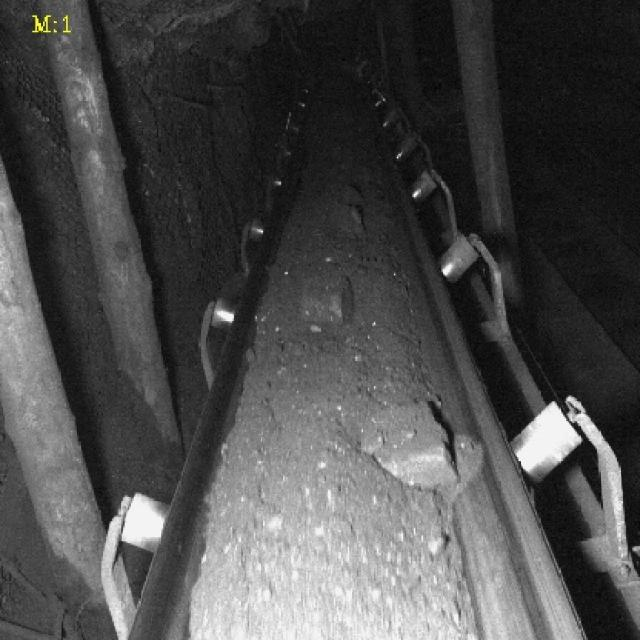large_sized_coal: (360, 397, 457, 491), (296, 277, 358, 328), (329, 185, 368, 240)
